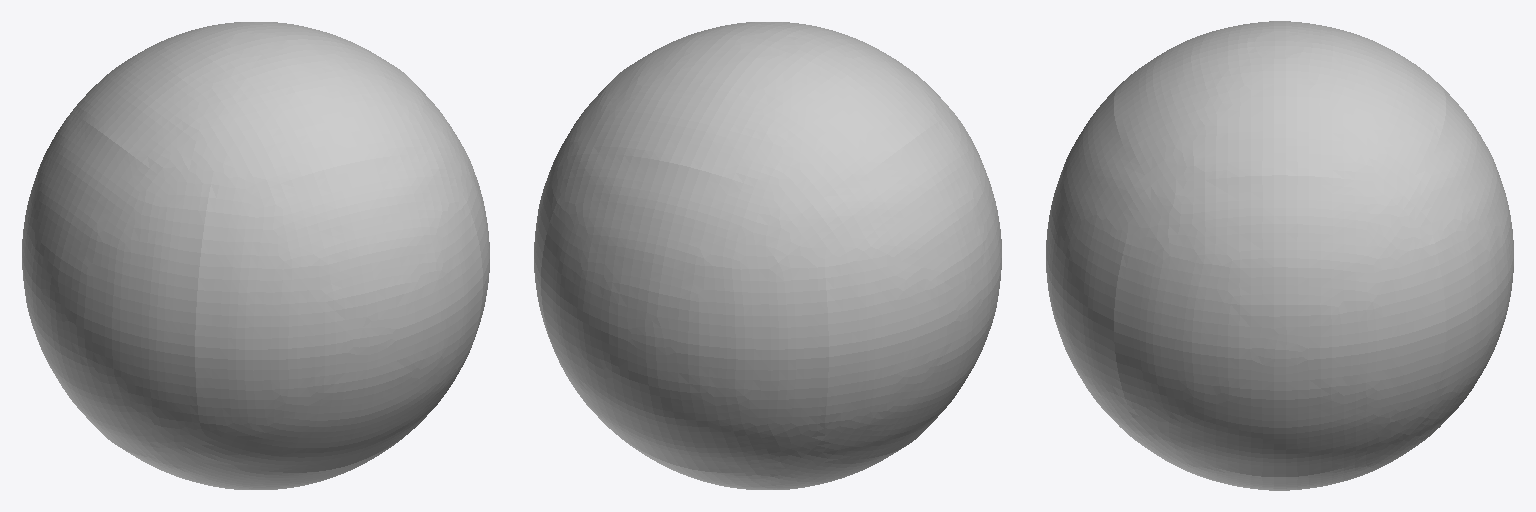
3 views of the same model, side by side, from view 1: azimuth 30°, elevation 25°; view 2: azimuth 150°, elevation 25°; view 3: azimuth 270°, elevation 25° (orthographic).
Parts seen in each view (by area): view 1: 球体; view 2: 球体; view 3: 球体.
Boxes of the visible parts, <box> form: 球体: <box>22,22,489,489</box>; 球体: <box>534,22,1001,489</box>; 球体: <box>1046,21,1513,490</box>.
Bounding box in the file's own units: 1.98 × 1.99 × 1.98.